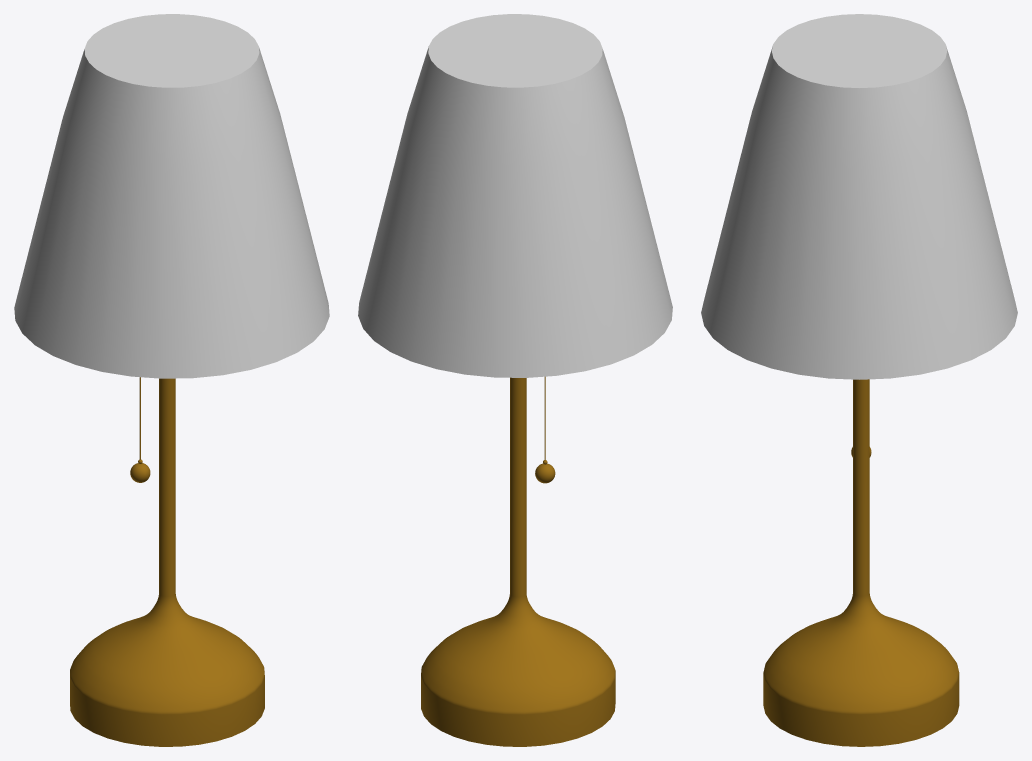
Rendered from lamp2.fbx.
The picture shows the model from 3 angles, left to right: view 1: azimuth 30°, elevation 25°; view 2: azimuth 150°, elevation 25°; view 3: azimuth 270°, elevation 25°; orthographic projection.
Visible parts, largest first — view 1: Cylinder.002, Cylinder.005; view 2: Cylinder.002, Cylinder.005; view 3: Cylinder.002, Cylinder.005.
Part boxes in pixels (left/top/right/bottom): Cylinder.002: left=14, top=14, right=329, bottom=378; Cylinder.005: left=70, top=378, right=264, bottom=746; Cylinder.002: left=358, top=14, right=672, bottom=377; Cylinder.005: left=421, top=377, right=615, bottom=746; Cylinder.002: left=701, top=14, right=1017, bottom=379; Cylinder.005: left=763, top=379, right=959, bottom=746.
Size of the model in its own units: 33.59 by 76.77 by 33.59.
